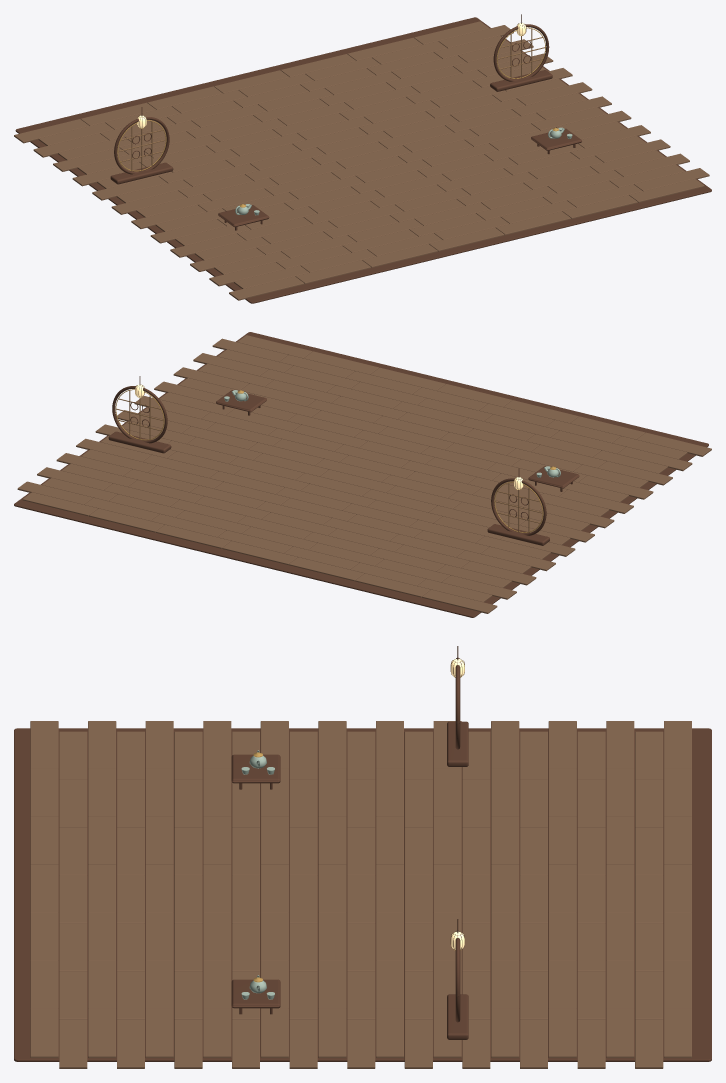
Rendered from mahjong_room_crafted.glb.
3 views of the same model, one above another, from view 1: azimuth 30°, elevation 25°; view 2: azimuth 150°, elevation 25°; view 3: azimuth 270°, elevation 25° (orthographic). The views are drawn at different scales.
Visible parts, largest first — view 1: Rounded oak floor board, Continuous veranda underfloor, Moon-screen horizontal lattice; view 2: Rounded oak floor board, Continuous veranda underfloor, Moon-screen horizontal lattice; view 3: Rounded oak floor board, Continuous veranda underfloor.
Boxes of the visible parts, x1,y1,x2,y2 form: Rounded oak floor board: [14, 21, 709, 300]; Continuous veranda underfloor: [15, 14, 711, 303]; Moon-screen horizontal lattice: [118, 23, 545, 170]; Rounded oak floor board: [17, 335, 711, 613]; Continuous veranda underfloor: [14, 332, 708, 617]; Moon-screen horizontal lattice: [116, 385, 542, 532]; Rounded oak floor board: [30, 721, 691, 1068]; Continuous veranda underfloor: [14, 646, 711, 1061].
Size of the model in its own units: 37.52 by 5.75 by 32.
